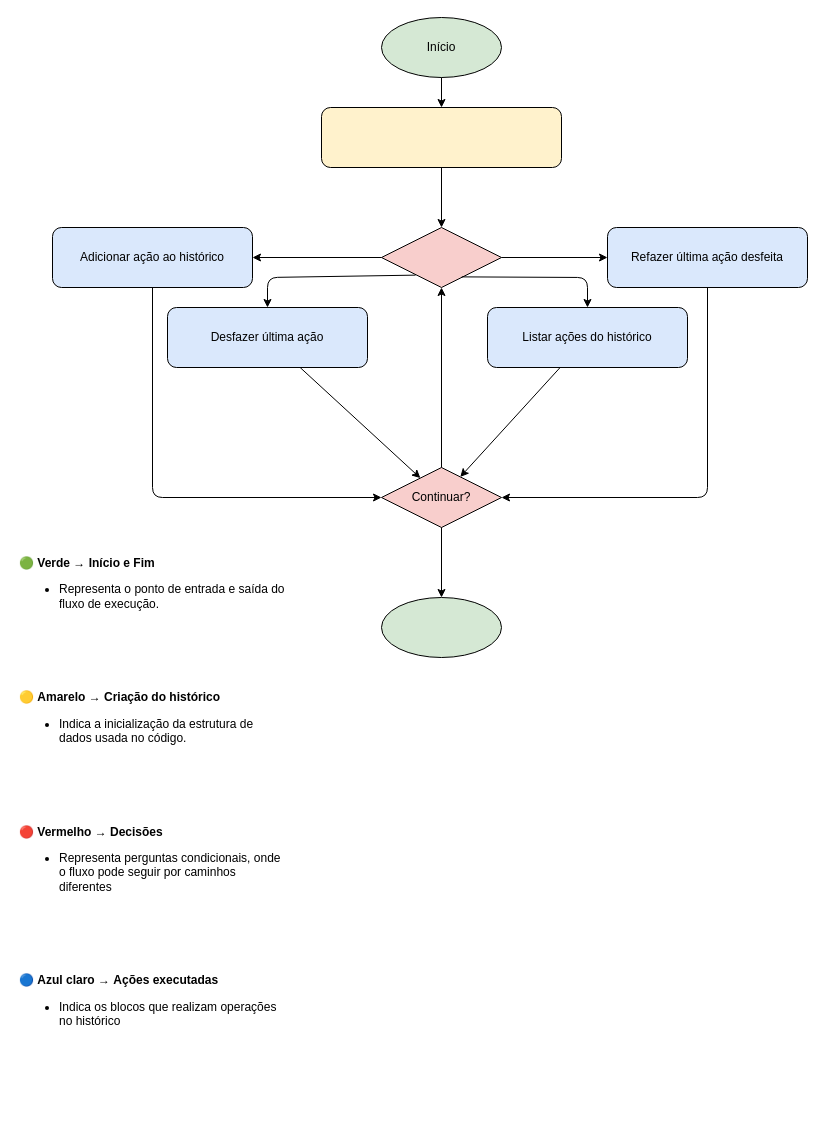
Image size: 825x1135. Some labels were removed from this diagram. The centre of each missing label's shape, as x and y in pixels:
"Criar estrutura de dados para histórico" goes at (441,137).
"Escolher ação" goes at (441,257).
"Fim" goes at (441,627).
